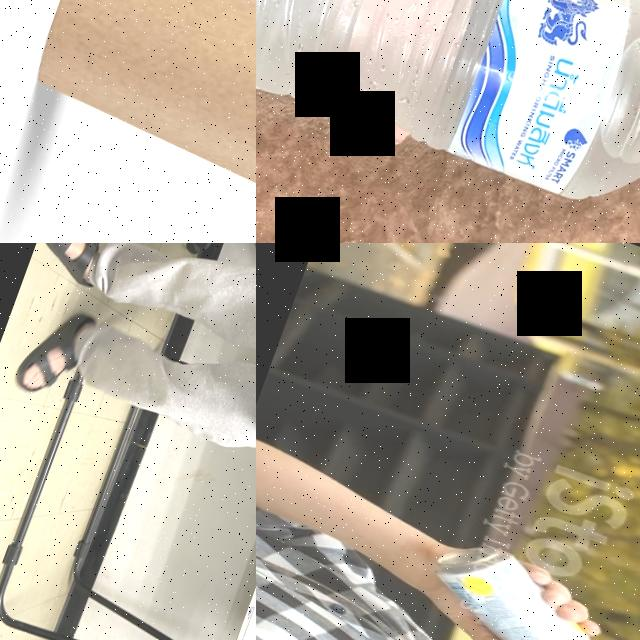bottle: (256, 0, 640, 243)
can: (406, 521, 621, 640)
cup: (7, 0, 256, 243)
